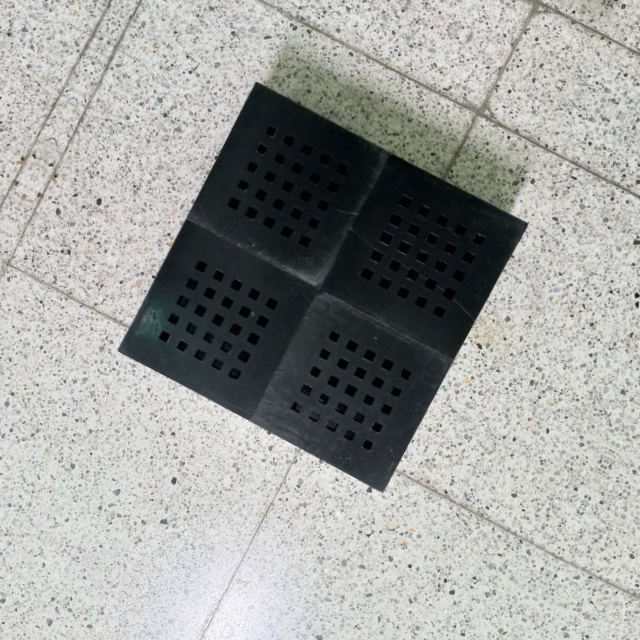pallet: (104, 62, 534, 509)
